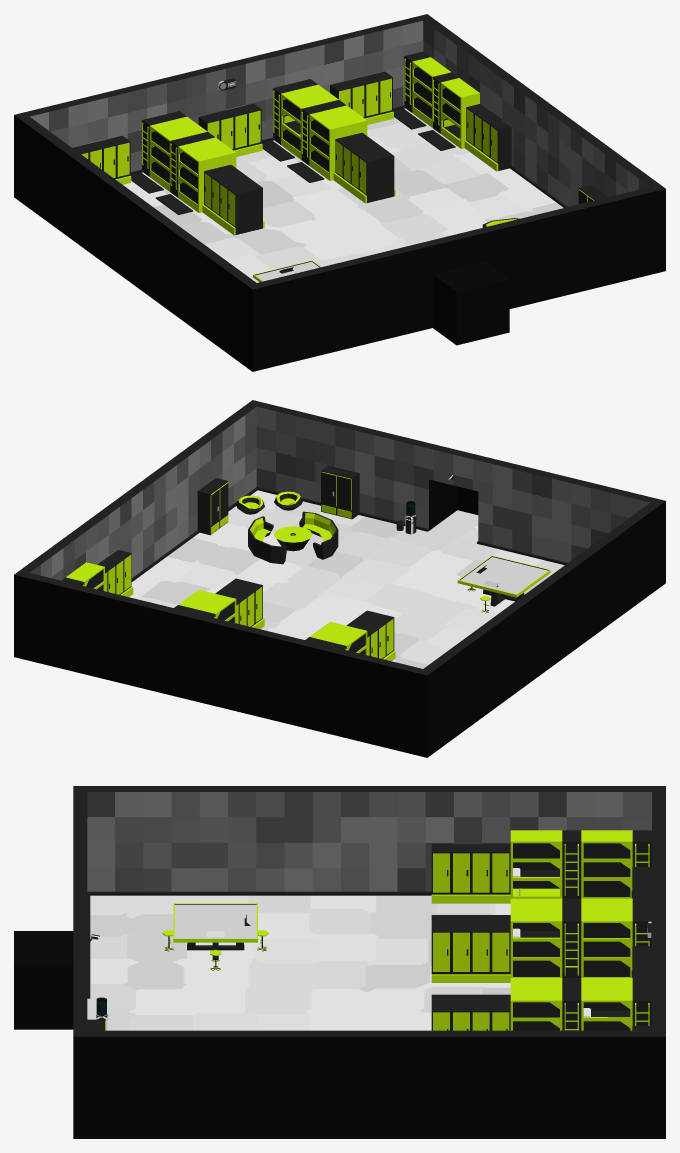
Rendered from Residental_Room_1x1x1.fbx.
3 views of the same model, one above another, from view 1: azimuth 30°, elevation 25°; view 2: azimuth 150°, elevation 25°; view 3: azimuth 270°, elevation 25° (orthographic). The views are drawn at different scales.
Parts seen in each view (by area): view 1: Residental_Room_1x1x1; view 2: Residental_Room_1x1x1; view 3: Residental_Room_1x1x1.
Boxes of the visible parts, box(x1,y1,x2,y2) form: Residental_Room_1x1x1: box(14, 14, 665, 371); Residental_Room_1x1x1: box(14, 400, 665, 757); Residental_Room_1x1x1: box(14, 786, 665, 1138).
Size of the model in its own units: 42 by 46.2 by 8.
